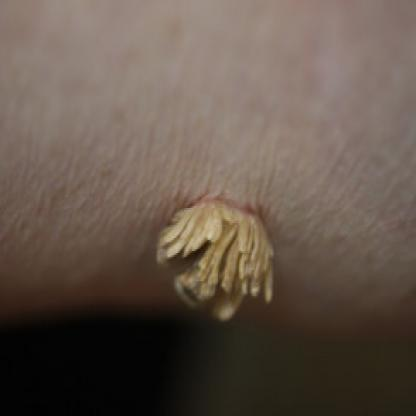Warts: (146, 176, 289, 338)
